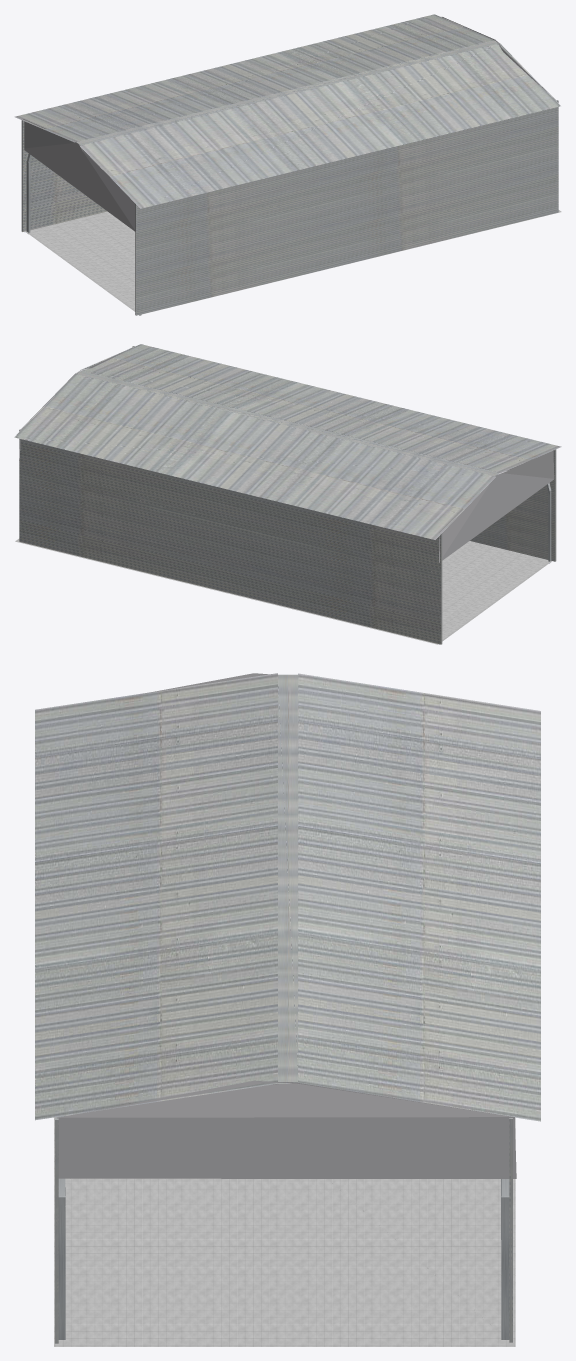
The model's file is Hangar.0.5.gltf.
The picture shows the model from 3 angles, top to bottom: view 1: azimuth 30°, elevation 25°; view 2: azimuth 150°, elevation 25°; view 3: azimuth 270°, elevation 25°; orthographic projection. The views are drawn at different scales.
Visible parts, largest first — view 1: Cube.031, Plane.002, Plane, Plane.001, Cube.030, Cube.028, Plane.003; view 2: Cube.028, Plane, Plane.002, Plane.001, Cube.030, Cube.031, Plane.003; view 3: Plane, Plane.002, Plane.001, Cube.029, Plane.003, Cube.022, Cube.005, Cube.031, Cube.028.
Boxes of the visible parts, x1,y1,x2,y2 form: Cube.031: [135, 100, 558, 315]; Plane.002: [80, 43, 560, 208]; Plane: [14, 14, 493, 142]; Plane.001: [25, 210, 561, 314]; Cube.030: [23, 119, 135, 231]; Cube.028: [21, 120, 107, 231]; Plane.003: [76, 40, 499, 145]; Cube.028: [19, 429, 442, 644]; Plane: [14, 374, 495, 539]; Plane.002: [80, 344, 561, 472]; Plane.001: [15, 538, 551, 644]; Cube.030: [439, 451, 554, 562]; Cube.031: [132, 346, 556, 561]; Plane.003: [76, 371, 499, 476]; Plane: [298, 673, 540, 1121]; Plane.002: [35, 673, 277, 1120]; Plane.001: [54, 1114, 515, 1346]; Cube.029: [57, 1080, 516, 1178]; Plane.003: [278, 674, 298, 1083]; Cube.022: [501, 1196, 509, 1339]; Cube.005: [58, 1196, 65, 1339]; Cube.031: [55, 1117, 58, 1343]; Cube.028: [509, 1118, 512, 1342].
Bounding box in the file's own units: 22.27 × 6.49 × 11.39.
46 materials, 34 textured.
